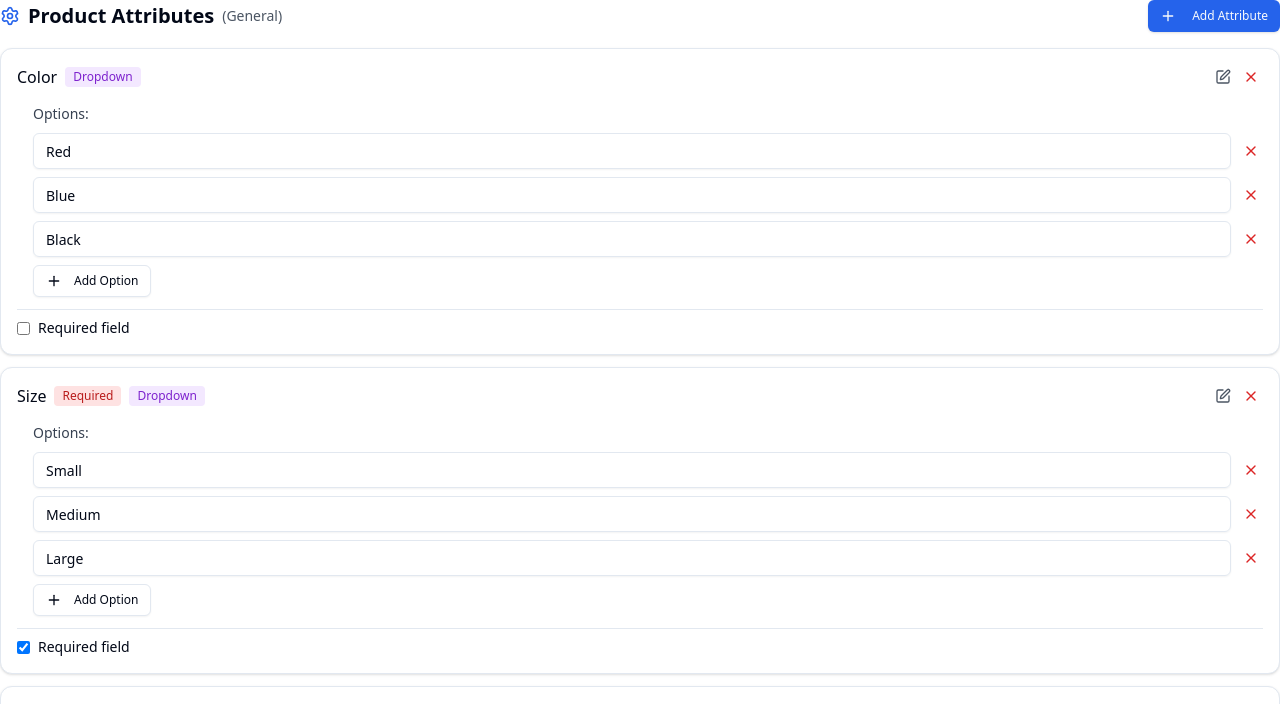
Test: ProductAttributesEditor › allows creating a new attribute
Click the button with test id "add-attribute-btn" at (1214, 16), box [1148,0,1279,32]
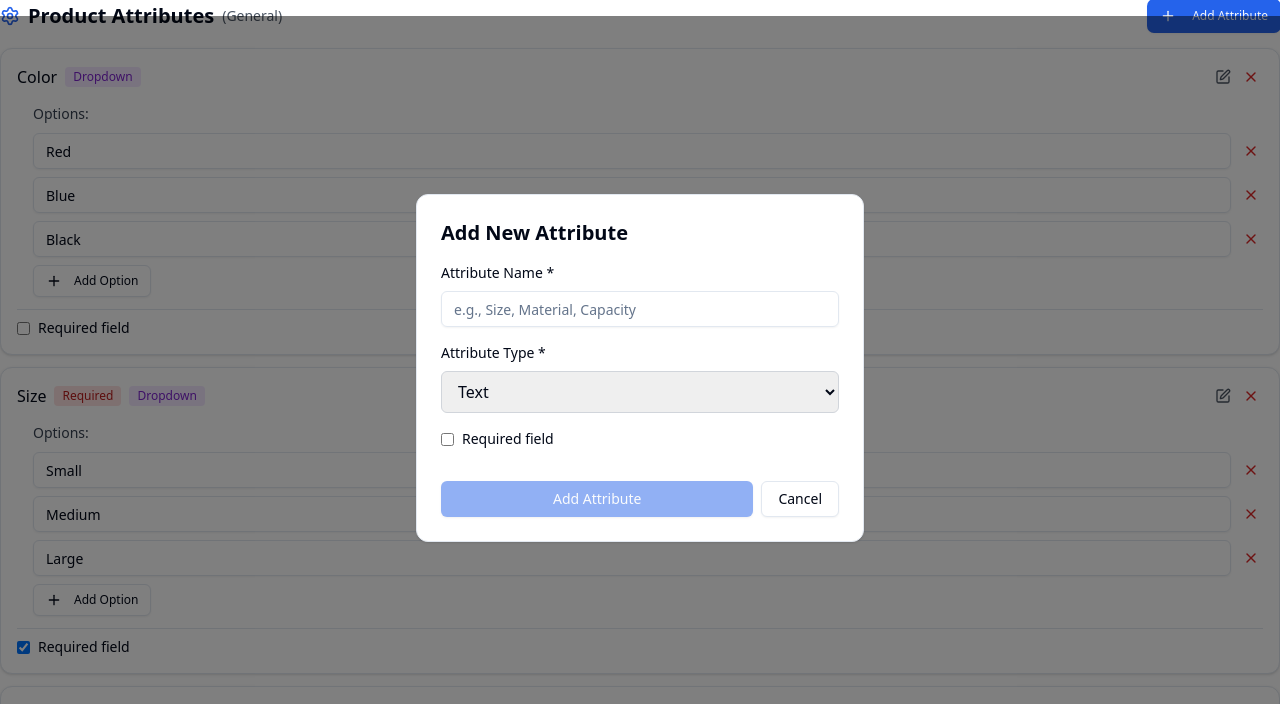
Type "Brand" into the field with test id "new-attr-name" at (640, 309), box [441,291,839,327]
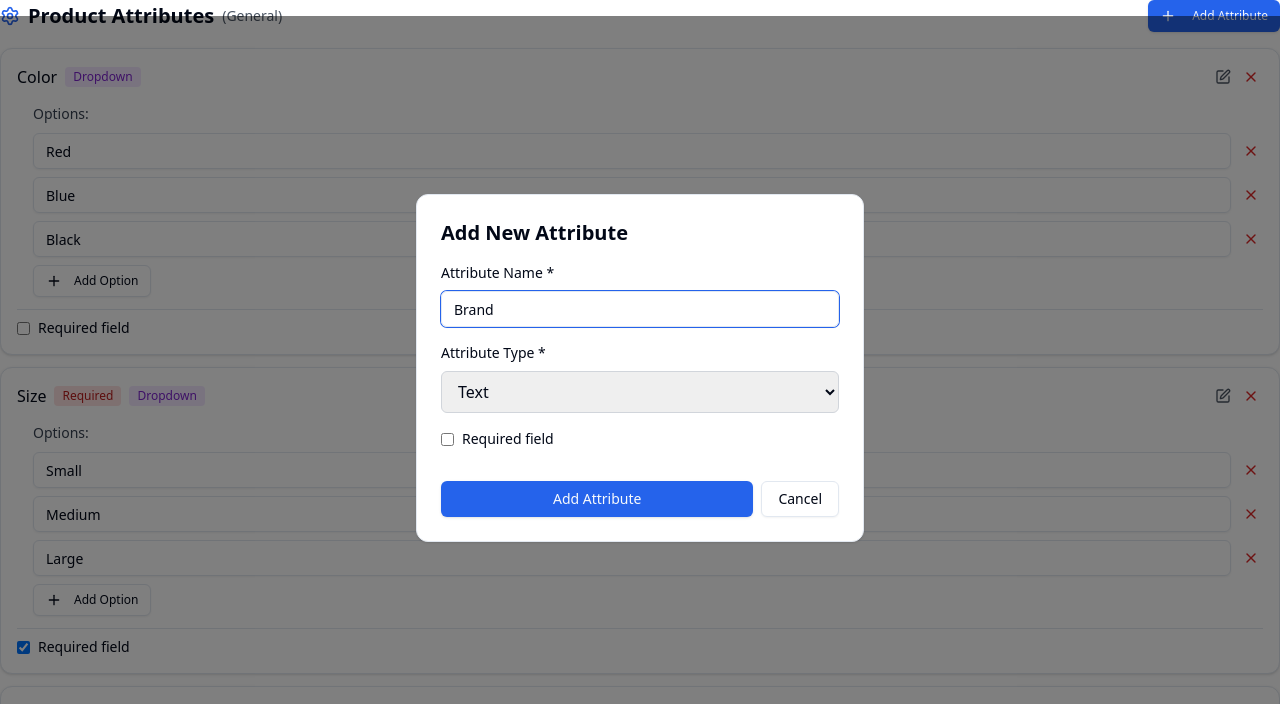
Click the button with test id "save-new-attr" at (597, 499), box [441,481,753,517]
(page scrolled)
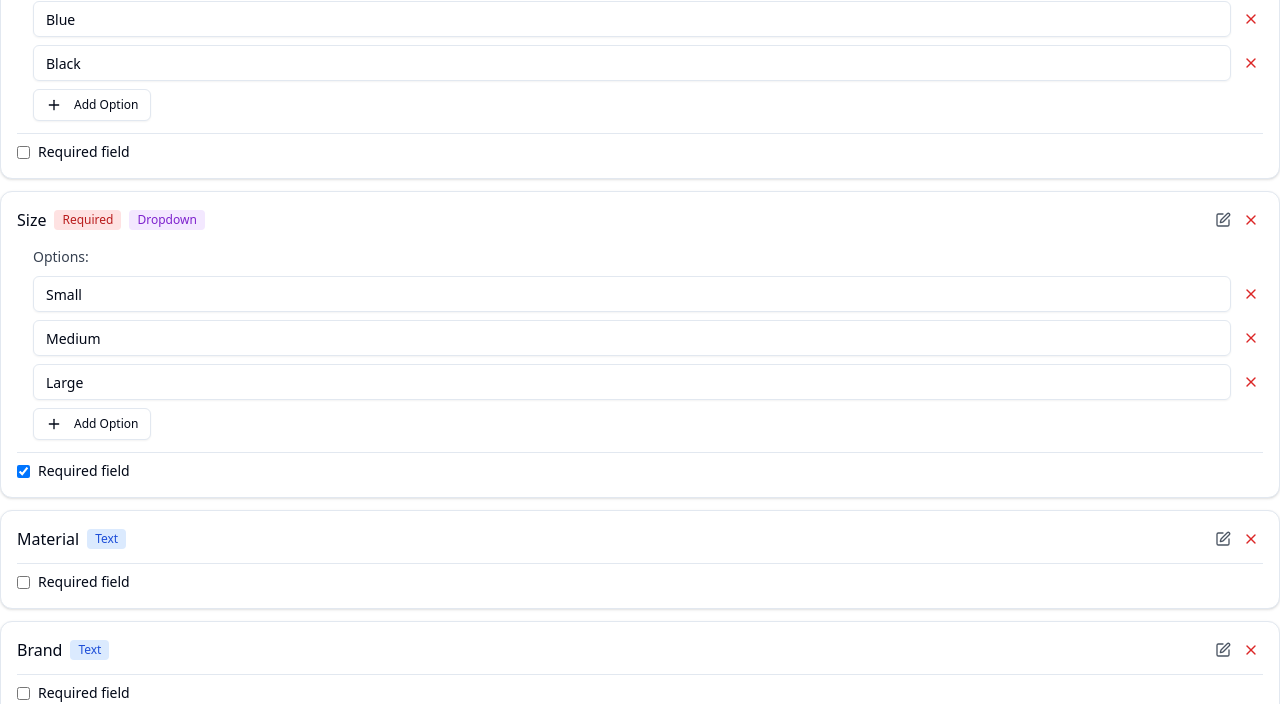
Expected: the heading "Brand" is shown, [17,638,62,662]
